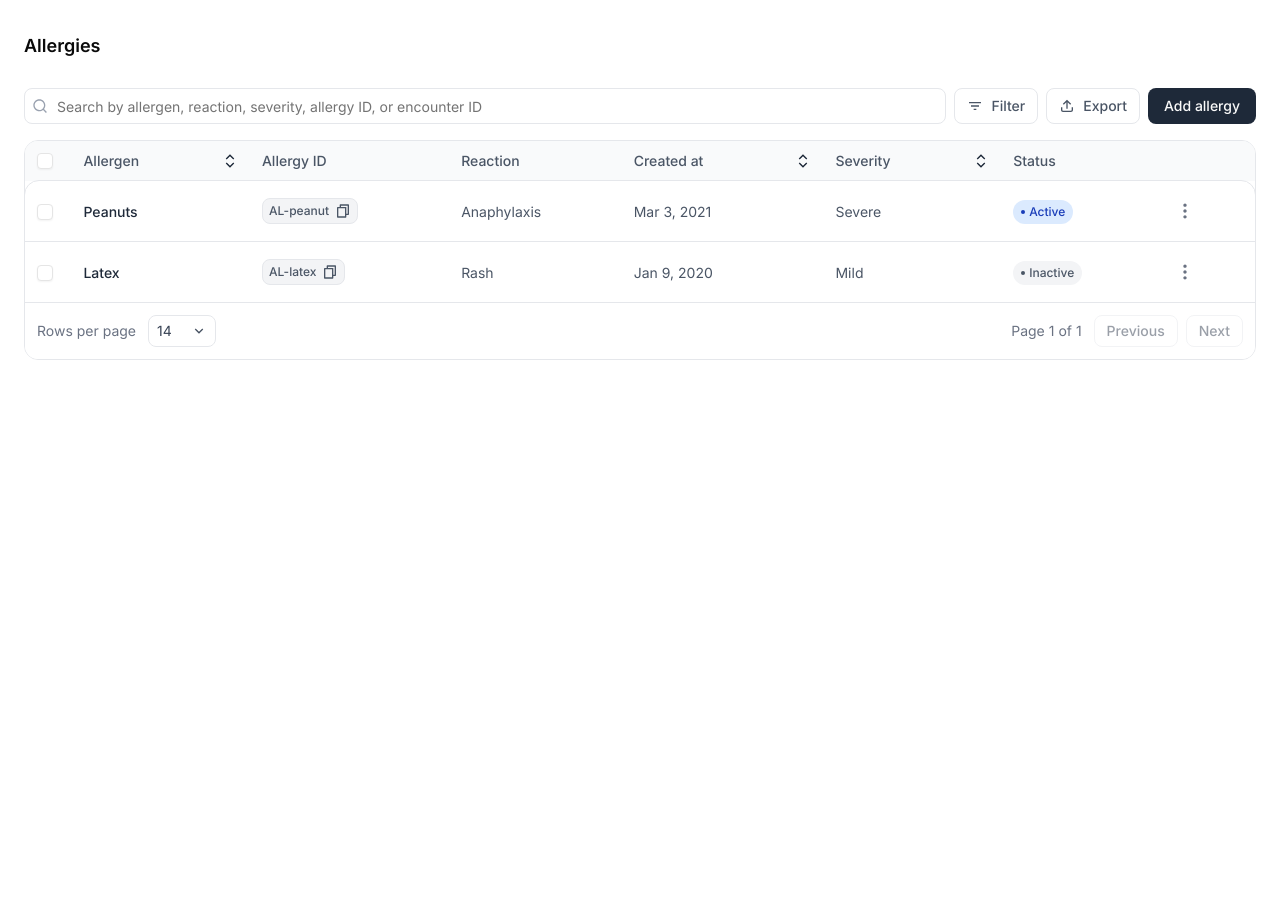
Test: Allergies table › opens the details drawer with the chosen row's data from the row actions
This screenshot has width=1280, height=900.
Click the button named "Open actions for Latex".
click(1185, 272)  # box [1167,254,1203,290]
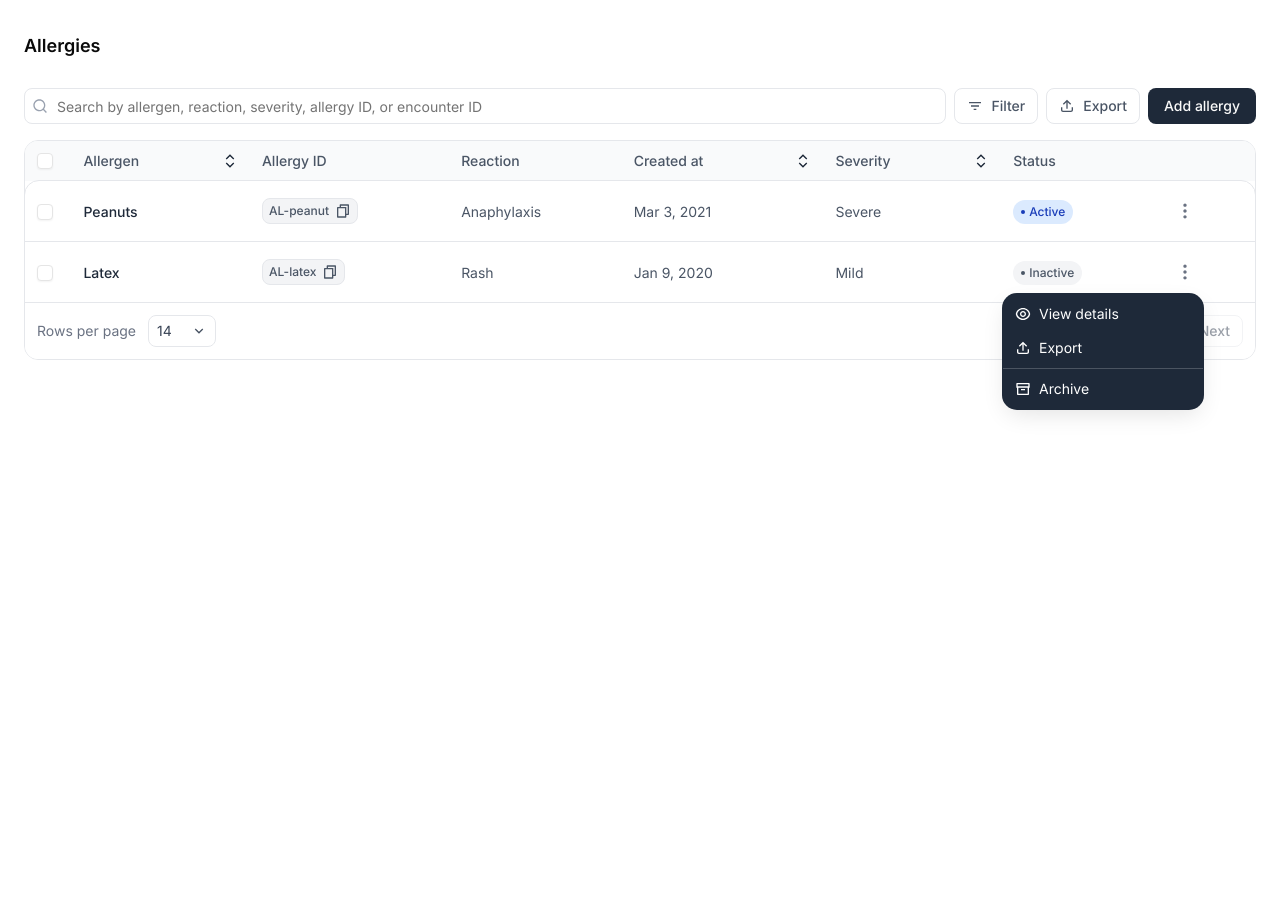
Now the menu item "Export" is shown, box [1015,339,1082,356]
Now the menu item "Archive" is shown, box [1015,380,1089,397]
Click the menu item "View details".
click(1067, 314)  # box [1015,305,1119,322]
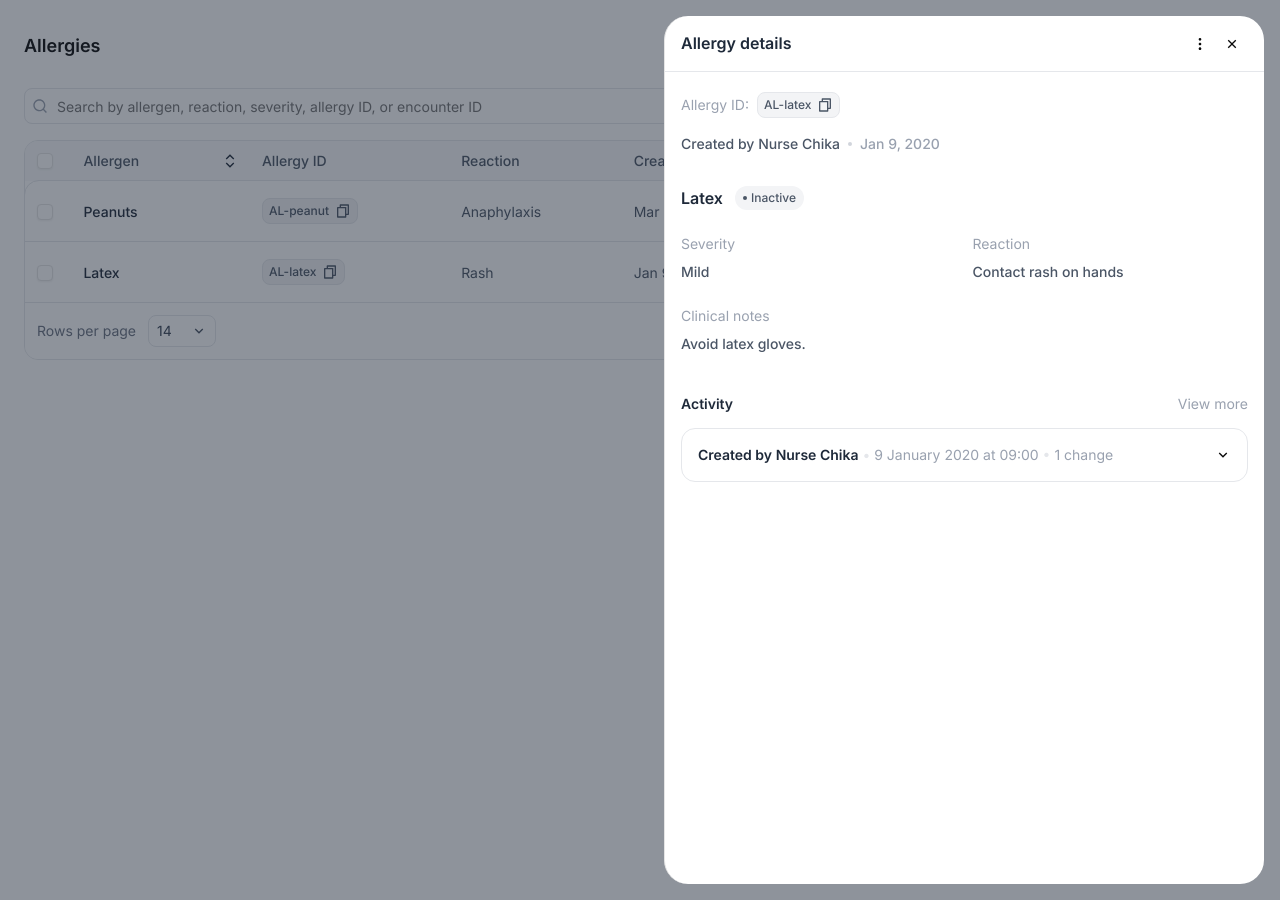
Now the heading "Latex" is shown, box [681,186,723,210]
Now the text "Contact rash on hands" is shown, box [972,263,1124,280]
Now the heading "Activity" is shown, box [681,394,733,414]
